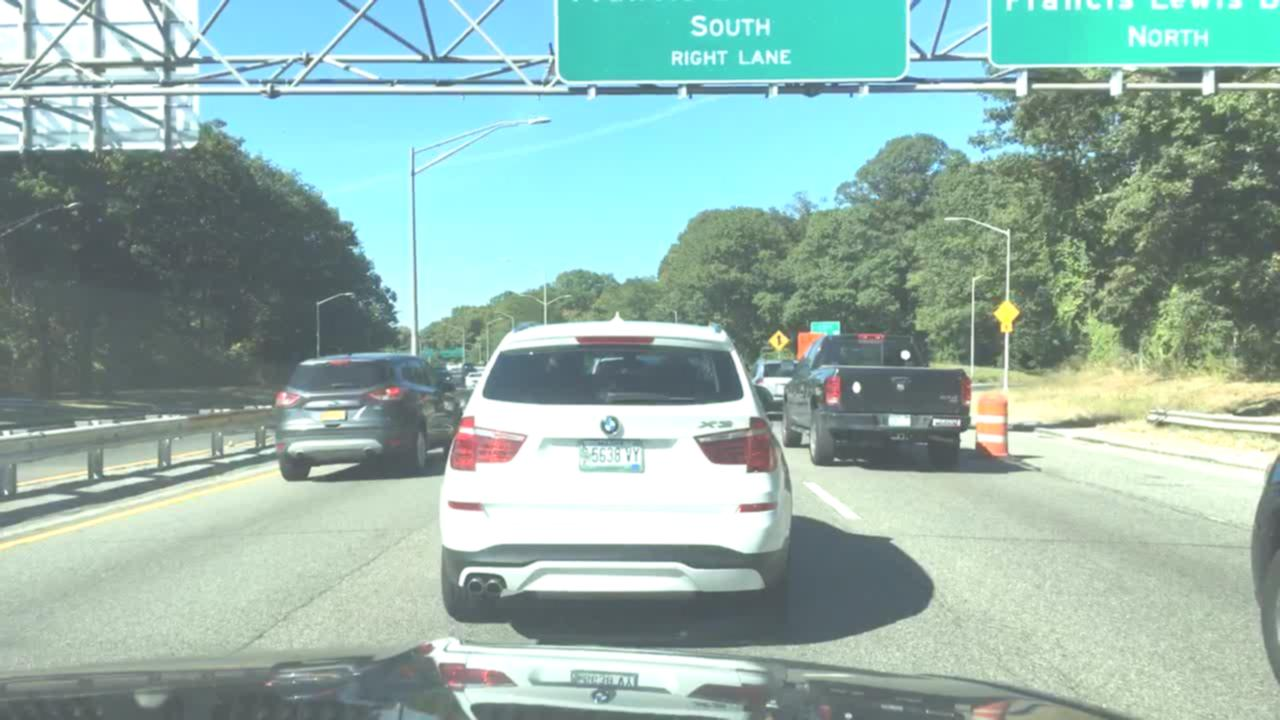bmw: (594, 409, 627, 441)
